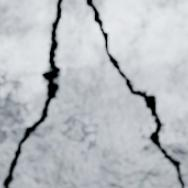brick: (11, 0, 180, 187), (94, 0, 187, 187), (0, 0, 56, 187)
crack: (83, 0, 186, 187), (2, 0, 64, 187)
